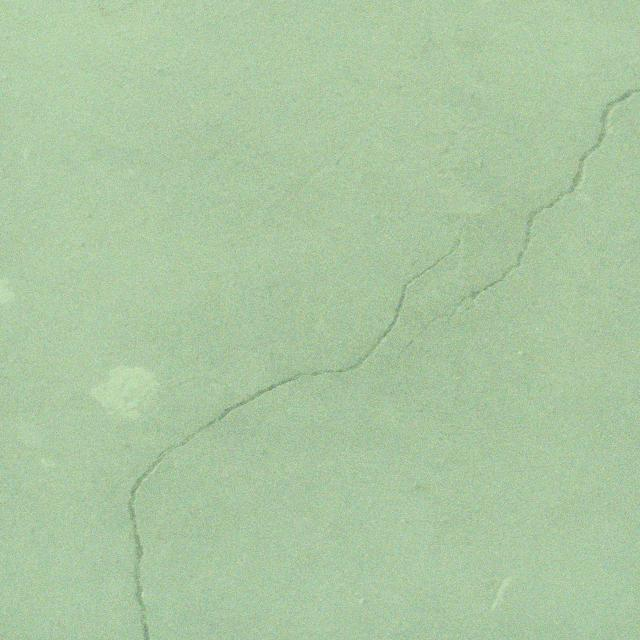crack: (127, 206, 498, 640), (394, 88, 640, 364)
